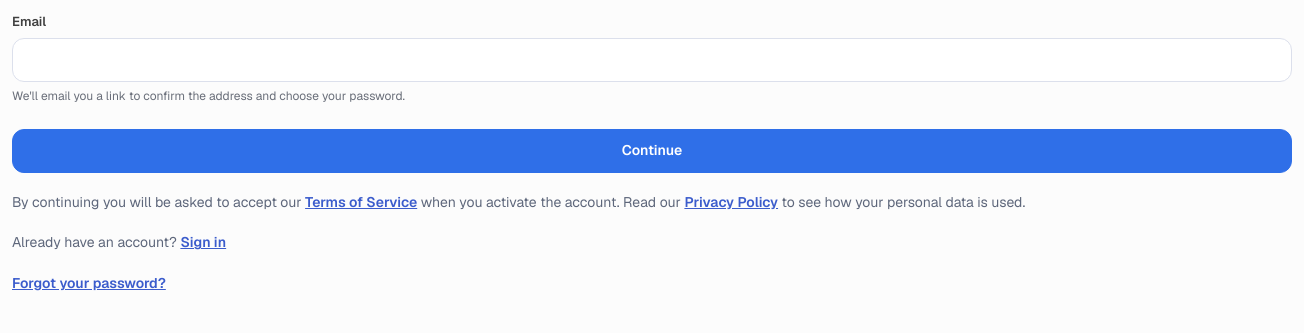
Test: RegisterForm (email-first, AUTH-003) › answers an empty address beside the field and sends nothing (AU-1)
This screenshot has width=1304, height=333.
Click the button "Continue": (652, 151) [12,129,1292,173]
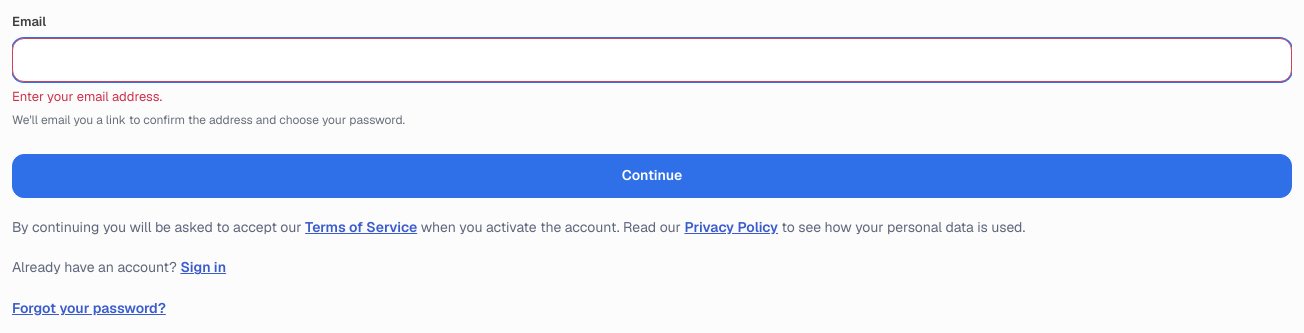
Result: the text with test id "register-email-error" reads "Enter your email address." at [12,88,162,104]
